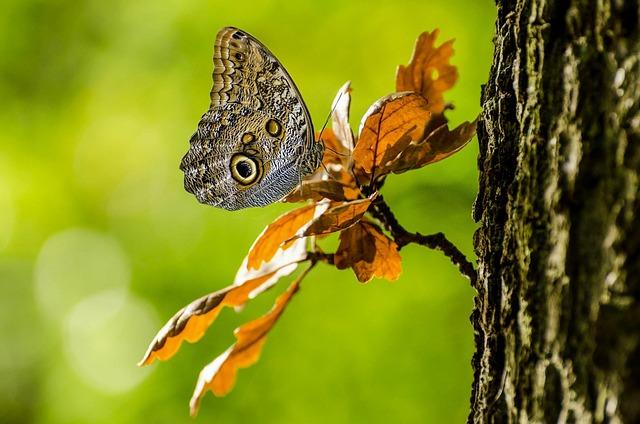Non_Gorille: (124, 0, 640, 416)
